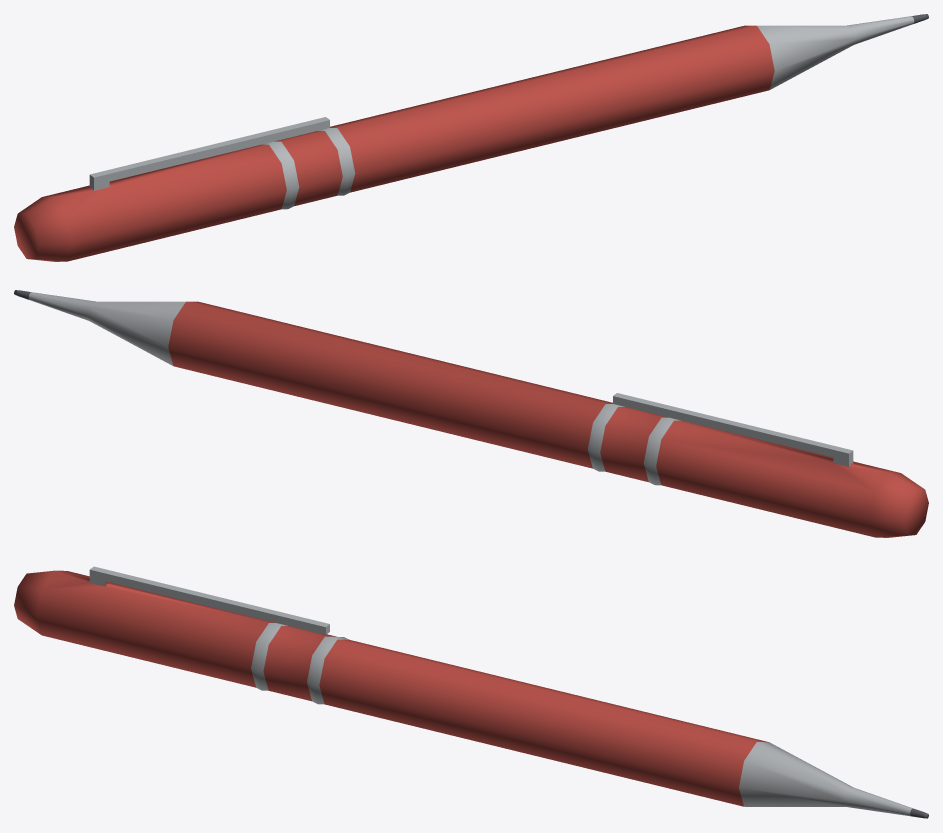
Rendered from pen_ballpoint.glb.
3 renders of one model, top to bottom at view 1: azimuth 30°, elevation 25°; view 2: azimuth 150°, elevation 25°; view 3: azimuth 330°, elevation 25°, orthographic.
Parts seen in each view (by area): view 1: pen_ballpoint; view 2: pen_ballpoint; view 3: pen_ballpoint.
Part boxes in pixels (left/top/right/bottom): pen_ballpoint: left=14, top=14, right=928, bottom=261; pen_ballpoint: left=14, top=290, right=928, bottom=537; pen_ballpoint: left=14, top=566, right=928, bottom=818.
Bounding box in the file's own units: 0.145 × 0.012 × 0.0104.
